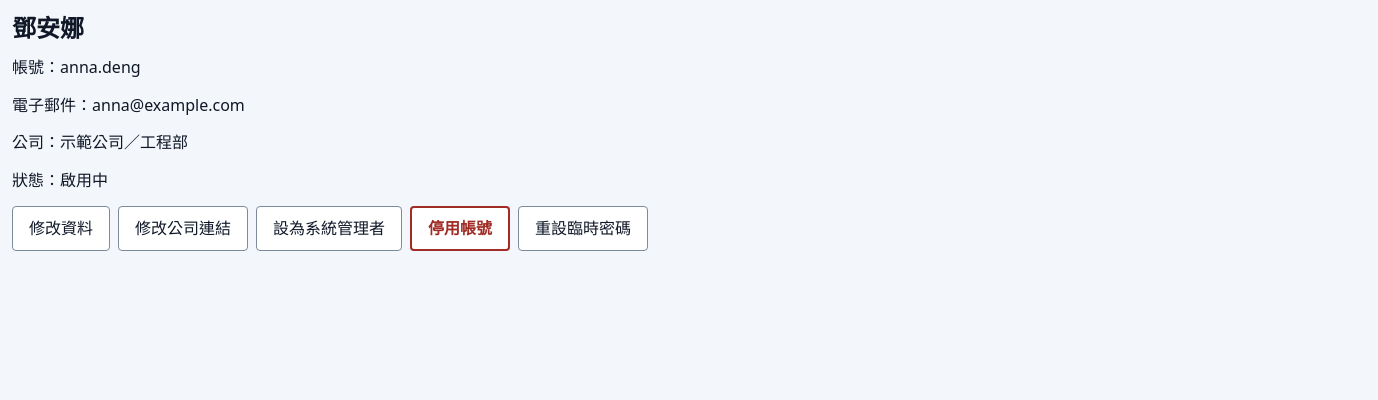
it: UsersPage 操作確認框（#507） › 連點確認只送出一次
Click the button "設為系統管理者". click: point(329, 228)
box: [256,206,402,251]
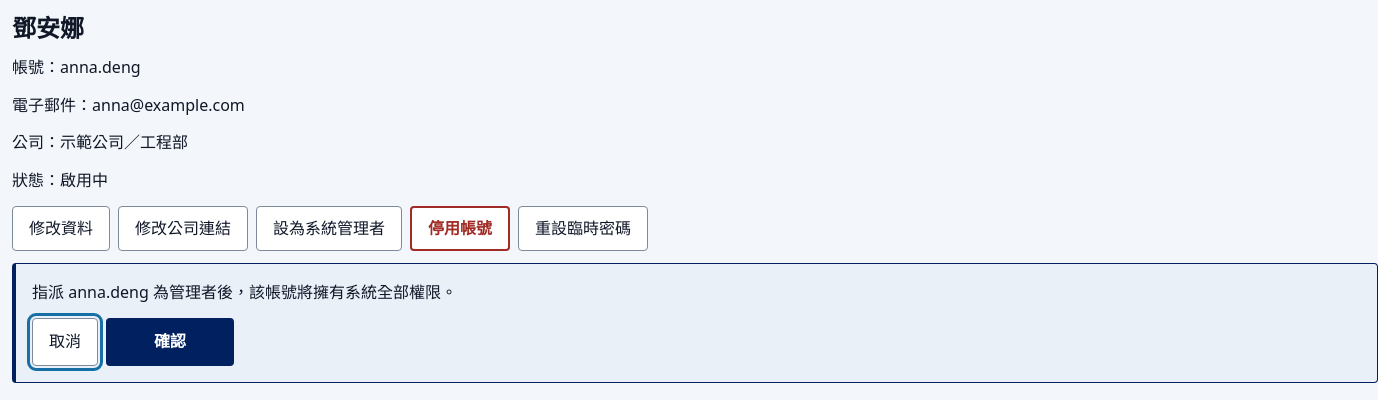
Click the button "確認". click: point(170, 342)
box: [106,318,234,366]
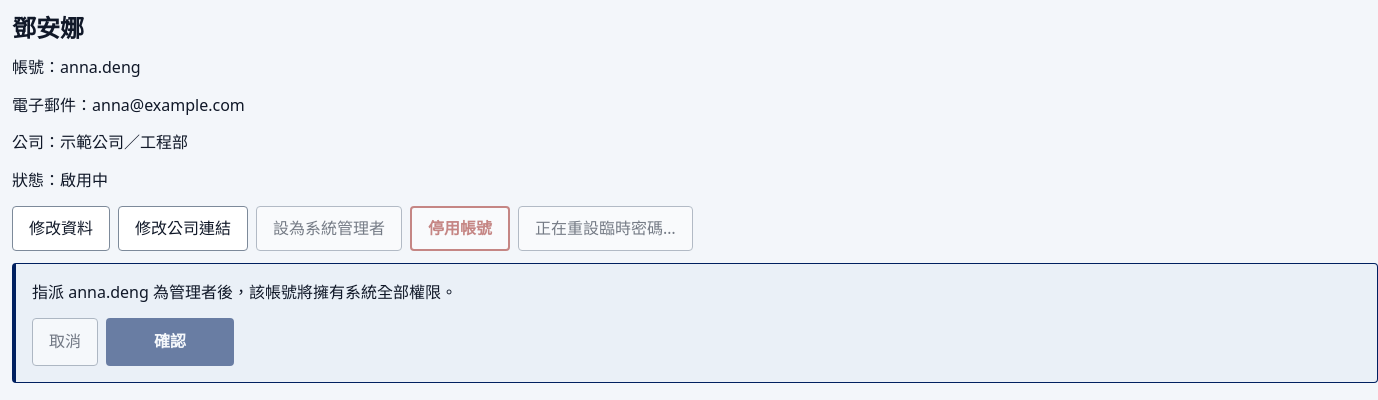
Click the button "確認". click: point(170, 342)
box: [106,318,234,366]
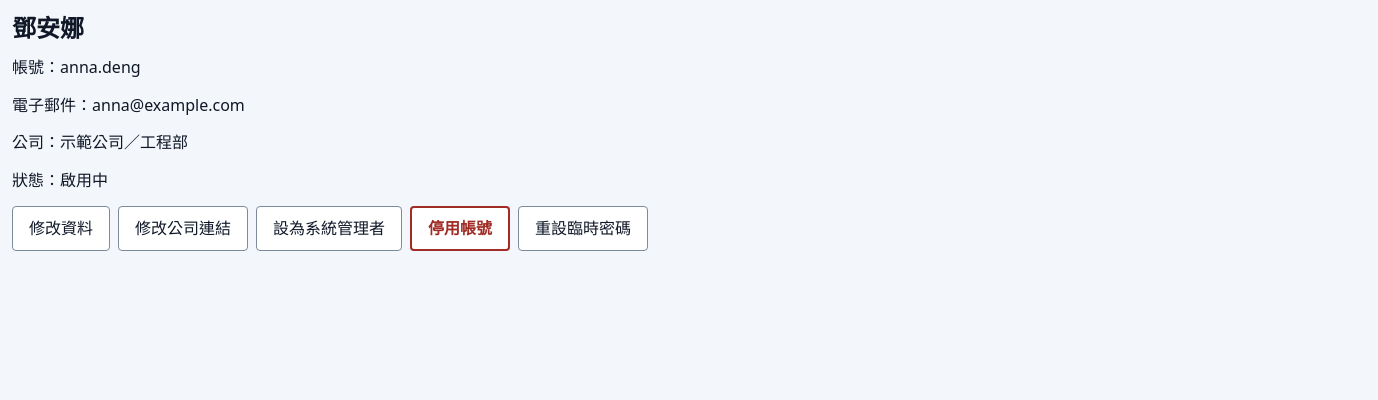
Result: the element "操作確認" is gone
